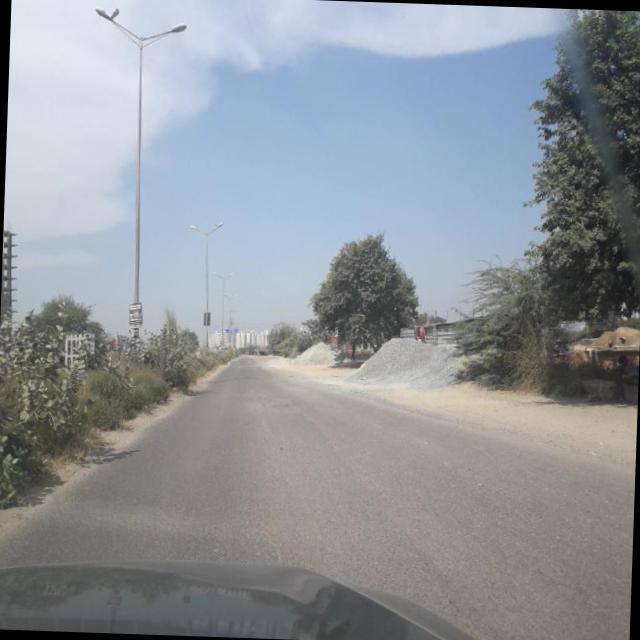crack: (114, 410, 636, 574)
